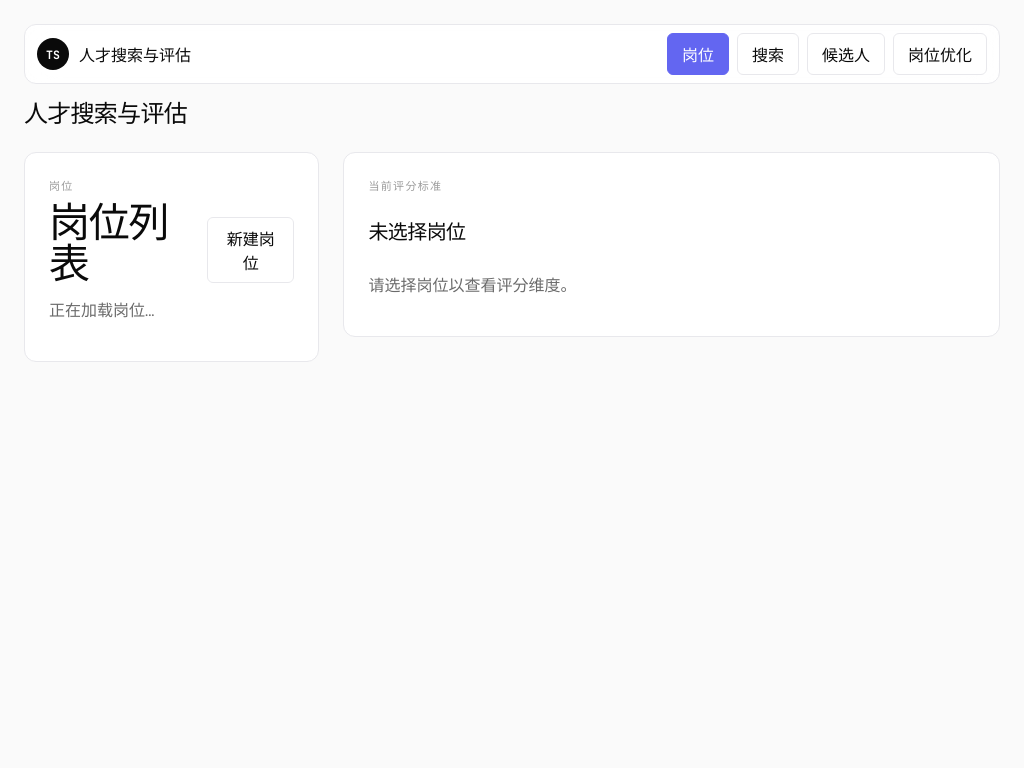
Test case: starts review, drafts a pass reason, and submits pass feedback
Click the button "候选人": (846, 54) [807,33,885,75]
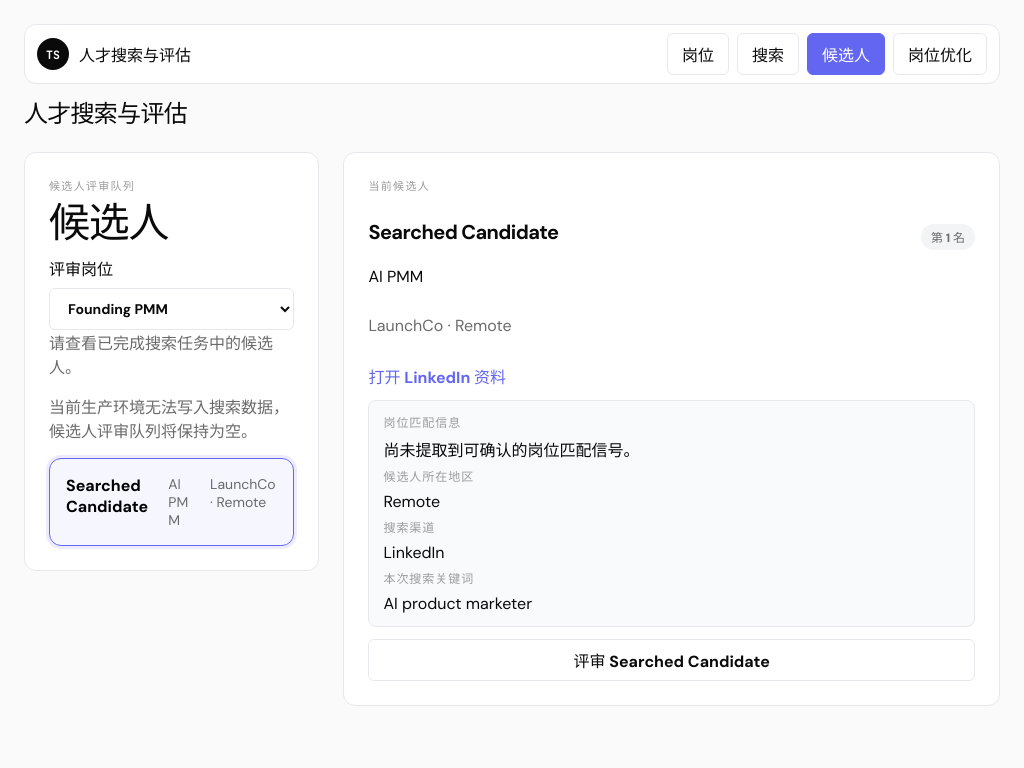
Click the button "评审 Searched Candidate": (672, 660) [368,639,975,681]
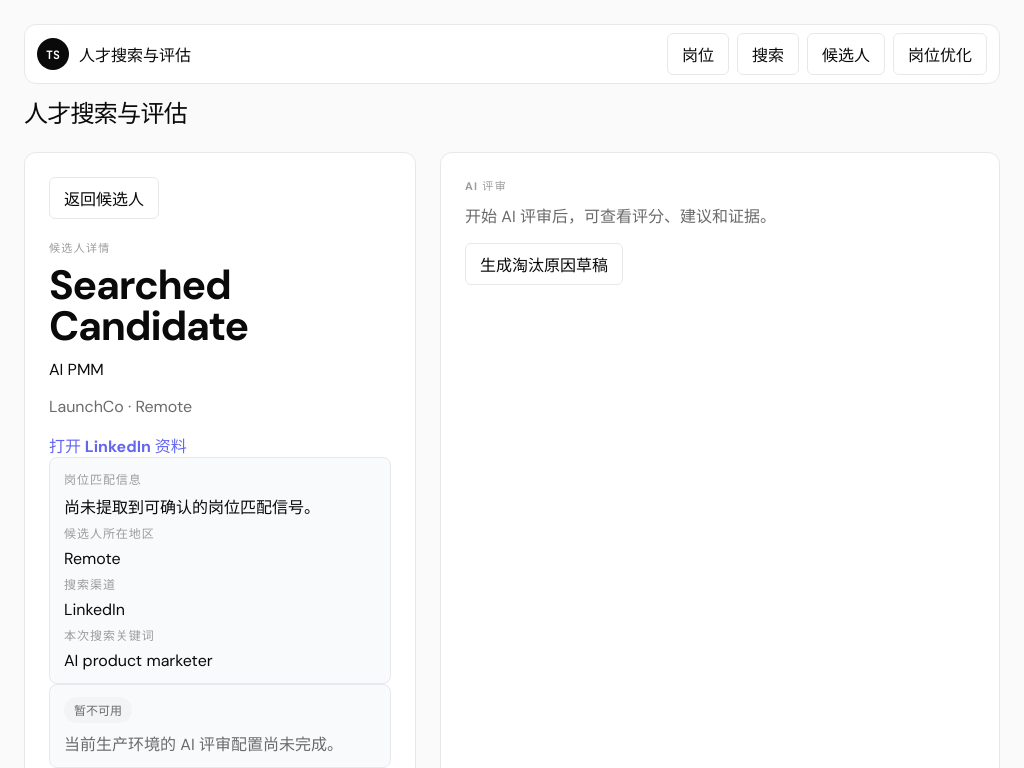
Click the button "返回候选人": (104, 198) [49,177,159,219]
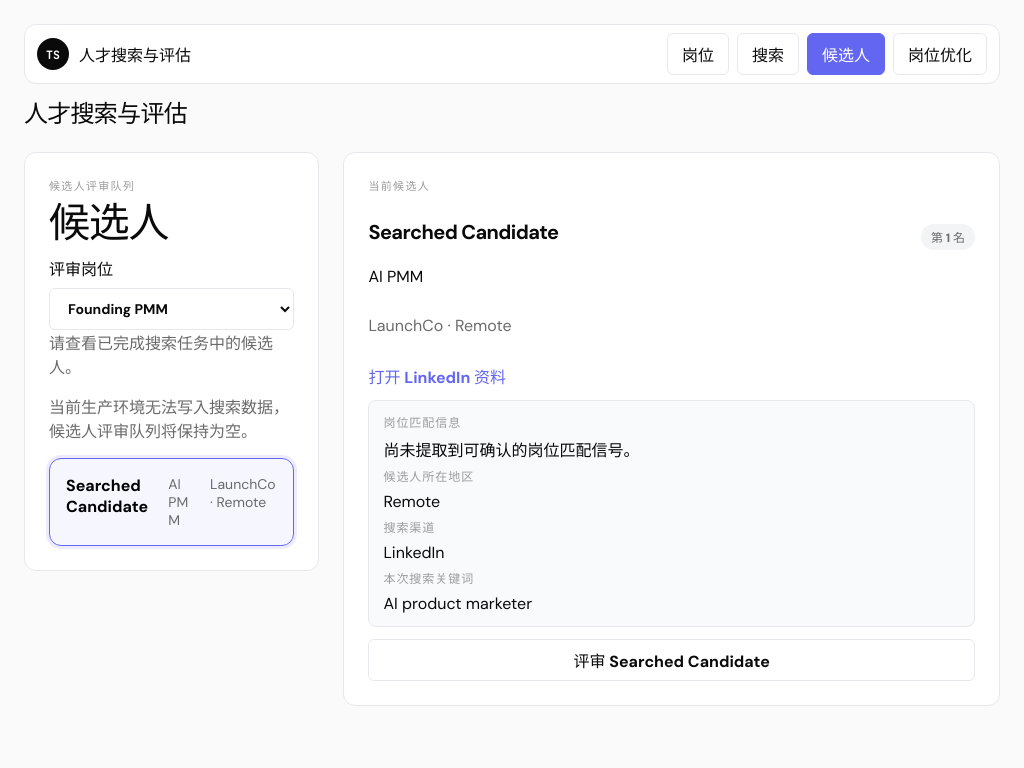
Check: the heading "候选人" is shown, box [49,196,168,250]
